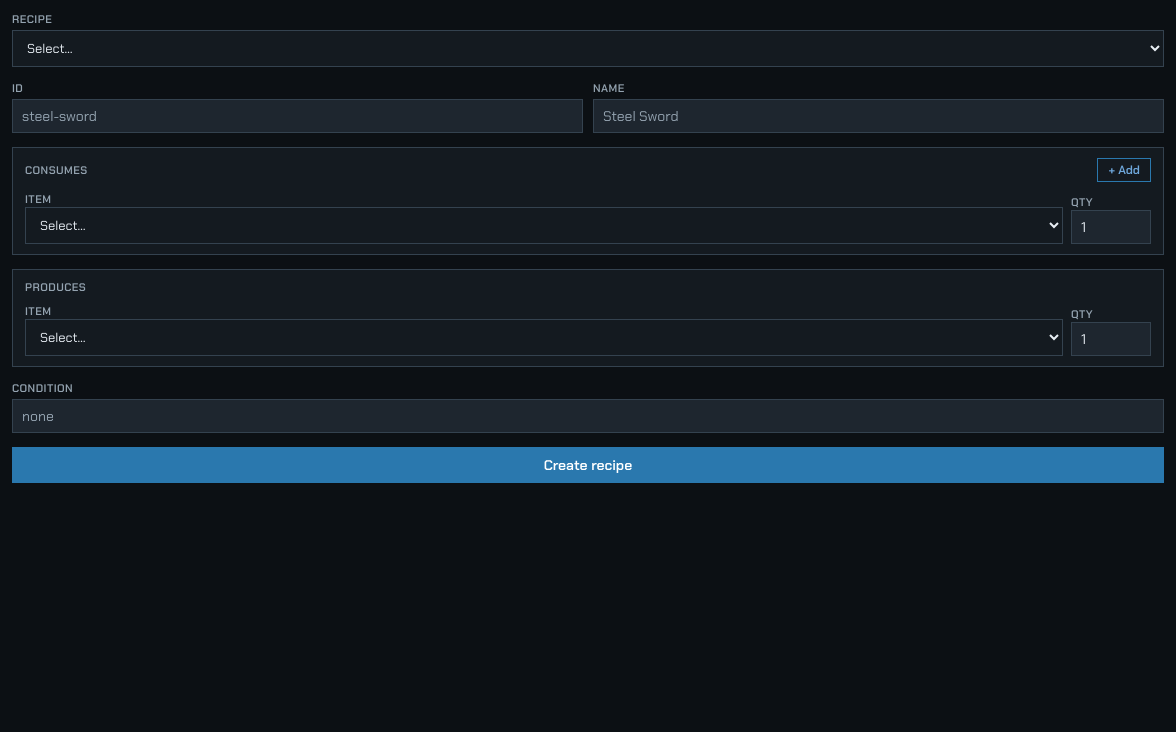
Scenario: authoring a recipe › flags two rows naming the same item, which the craft cannot pay
Click the button "+ Add" at (1124, 170), box [1097,158,1151,182]
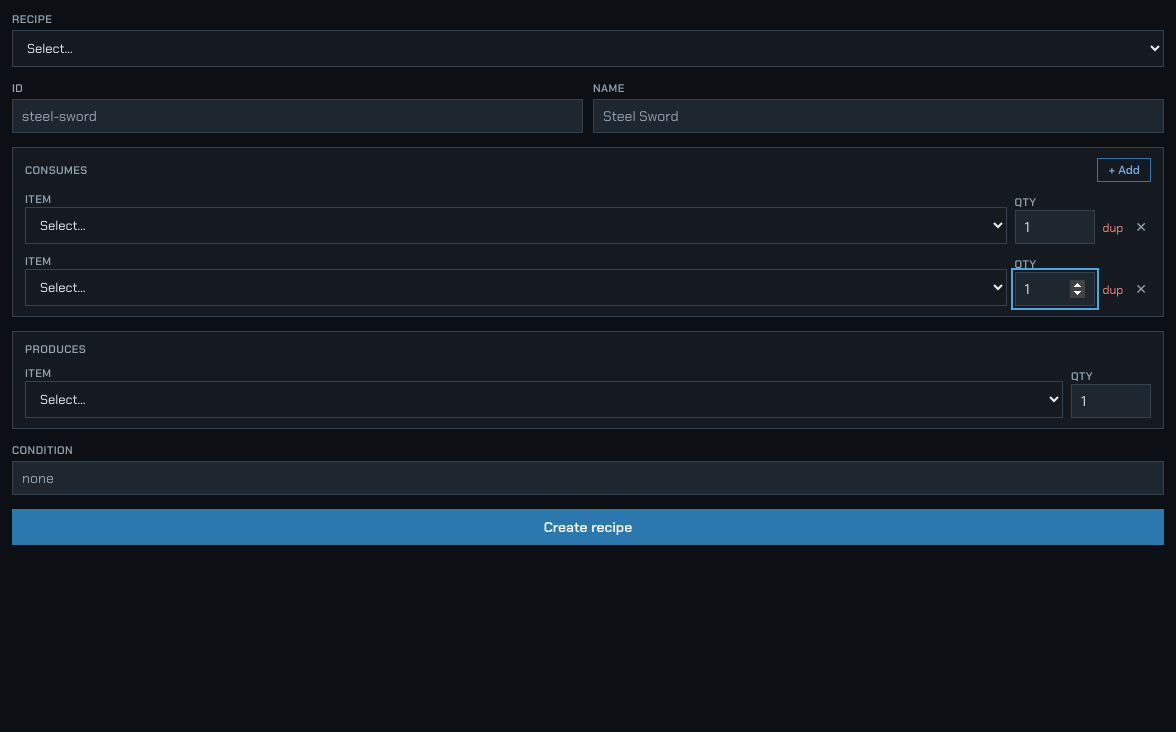
Select "3 - Gold Coin" in the 2nd dropdown at (516, 226), box [25,207,1006,244]
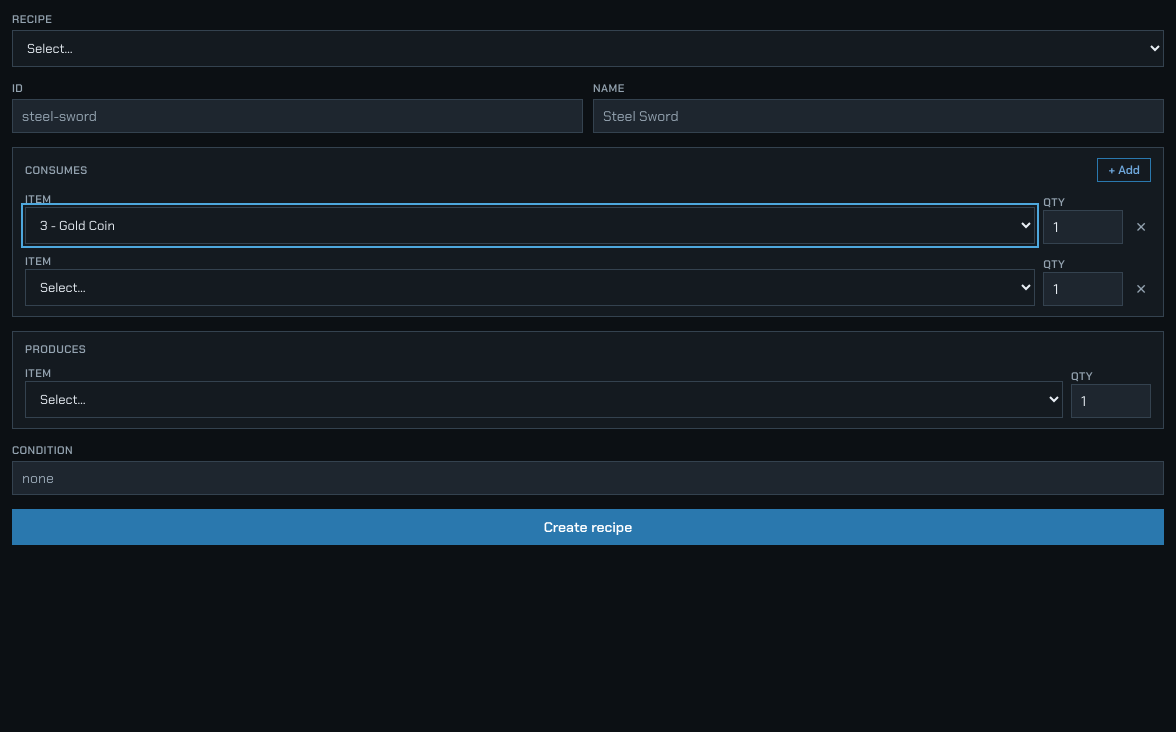
Select "3 - Gold Coin" in the 3rd dropdown at (530, 288), box [25,269,1035,306]
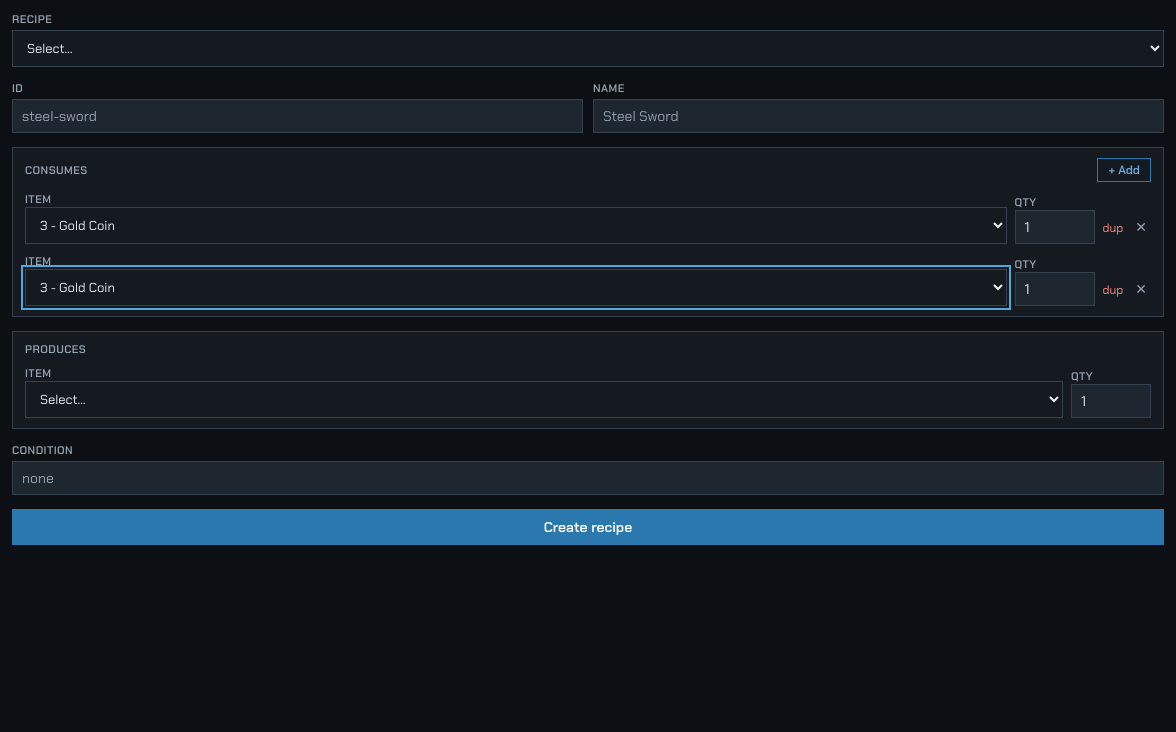
Now the text "dup" is shown 2 times, box [1102,220,1123,244]; [1102,282,1123,306]
